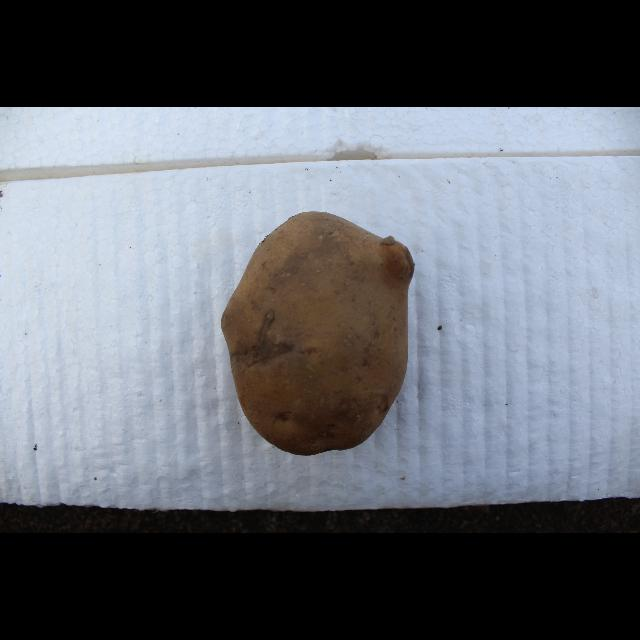Diseased-fungal potato: (220, 206, 416, 459)
